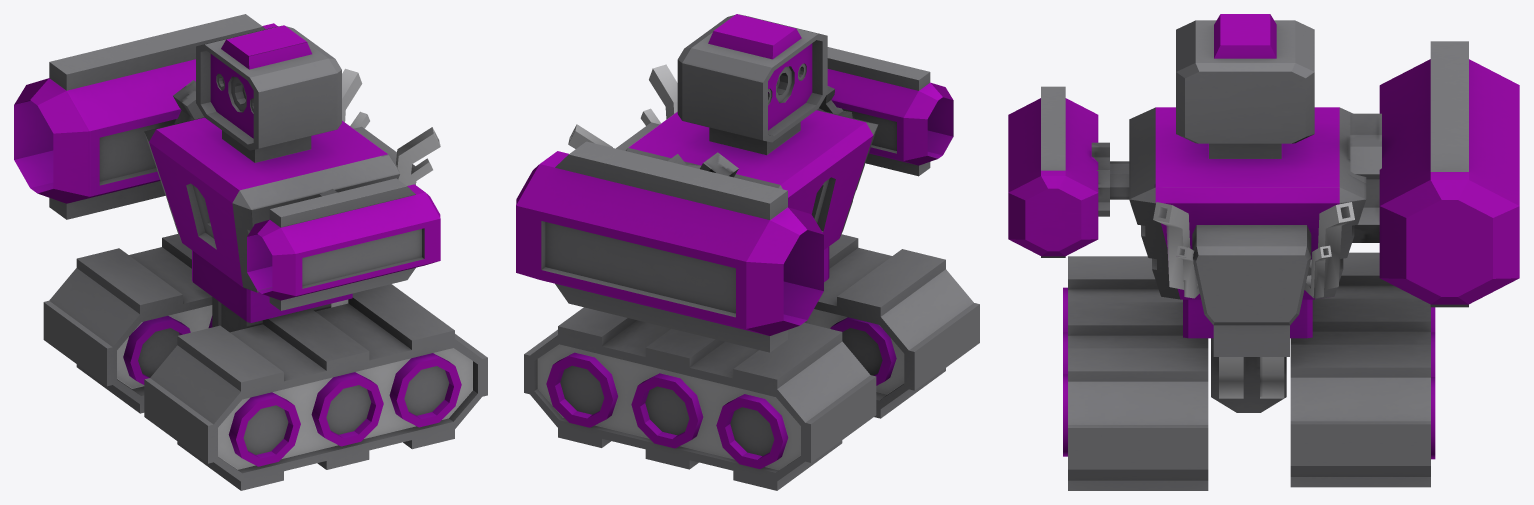
The model's file is Enemy2_Move16.obj.
3 renders of one model, left to right at view 1: azimuth 30°, elevation 25°; view 2: azimuth 150°, elevation 25°; view 3: azimuth 270°, elevation 25°, orthographic. The views are drawn at different scales.
Parts seen in each view (by area): view 1: Object006, Object007, Object010, Object009; view 2: Object006, Object007, Object010, Object009; view 3: Object006, Object007, Object010, Object009, Object008.
Part boxes in pixels (bbox=[...]): Object006: bbox=[14, 14, 487, 490]; Object007: bbox=[144, 25, 399, 332]; Object010: bbox=[331, 68, 440, 307]; Object009: bbox=[173, 80, 203, 123]; Object006: bbox=[516, 47, 979, 490]; Object007: bbox=[626, 14, 878, 323]; Object010: bbox=[568, 64, 677, 150]; Object009: bbox=[668, 152, 738, 177]; Object006: bbox=[1008, 41, 1519, 490]; Object007: bbox=[1129, 14, 1366, 412]; Object010: bbox=[1153, 202, 1354, 398]; Object009: bbox=[1350, 113, 1381, 242]; Object008: bbox=[1091, 142, 1129, 216].
Size of the model in its own units: 87.45 by 109 by 125.
1 material, 1 textured.
